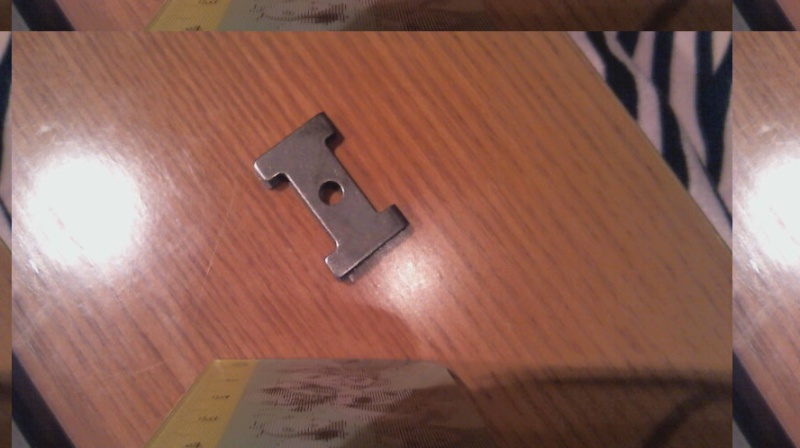O002: (251, 110, 412, 283)
